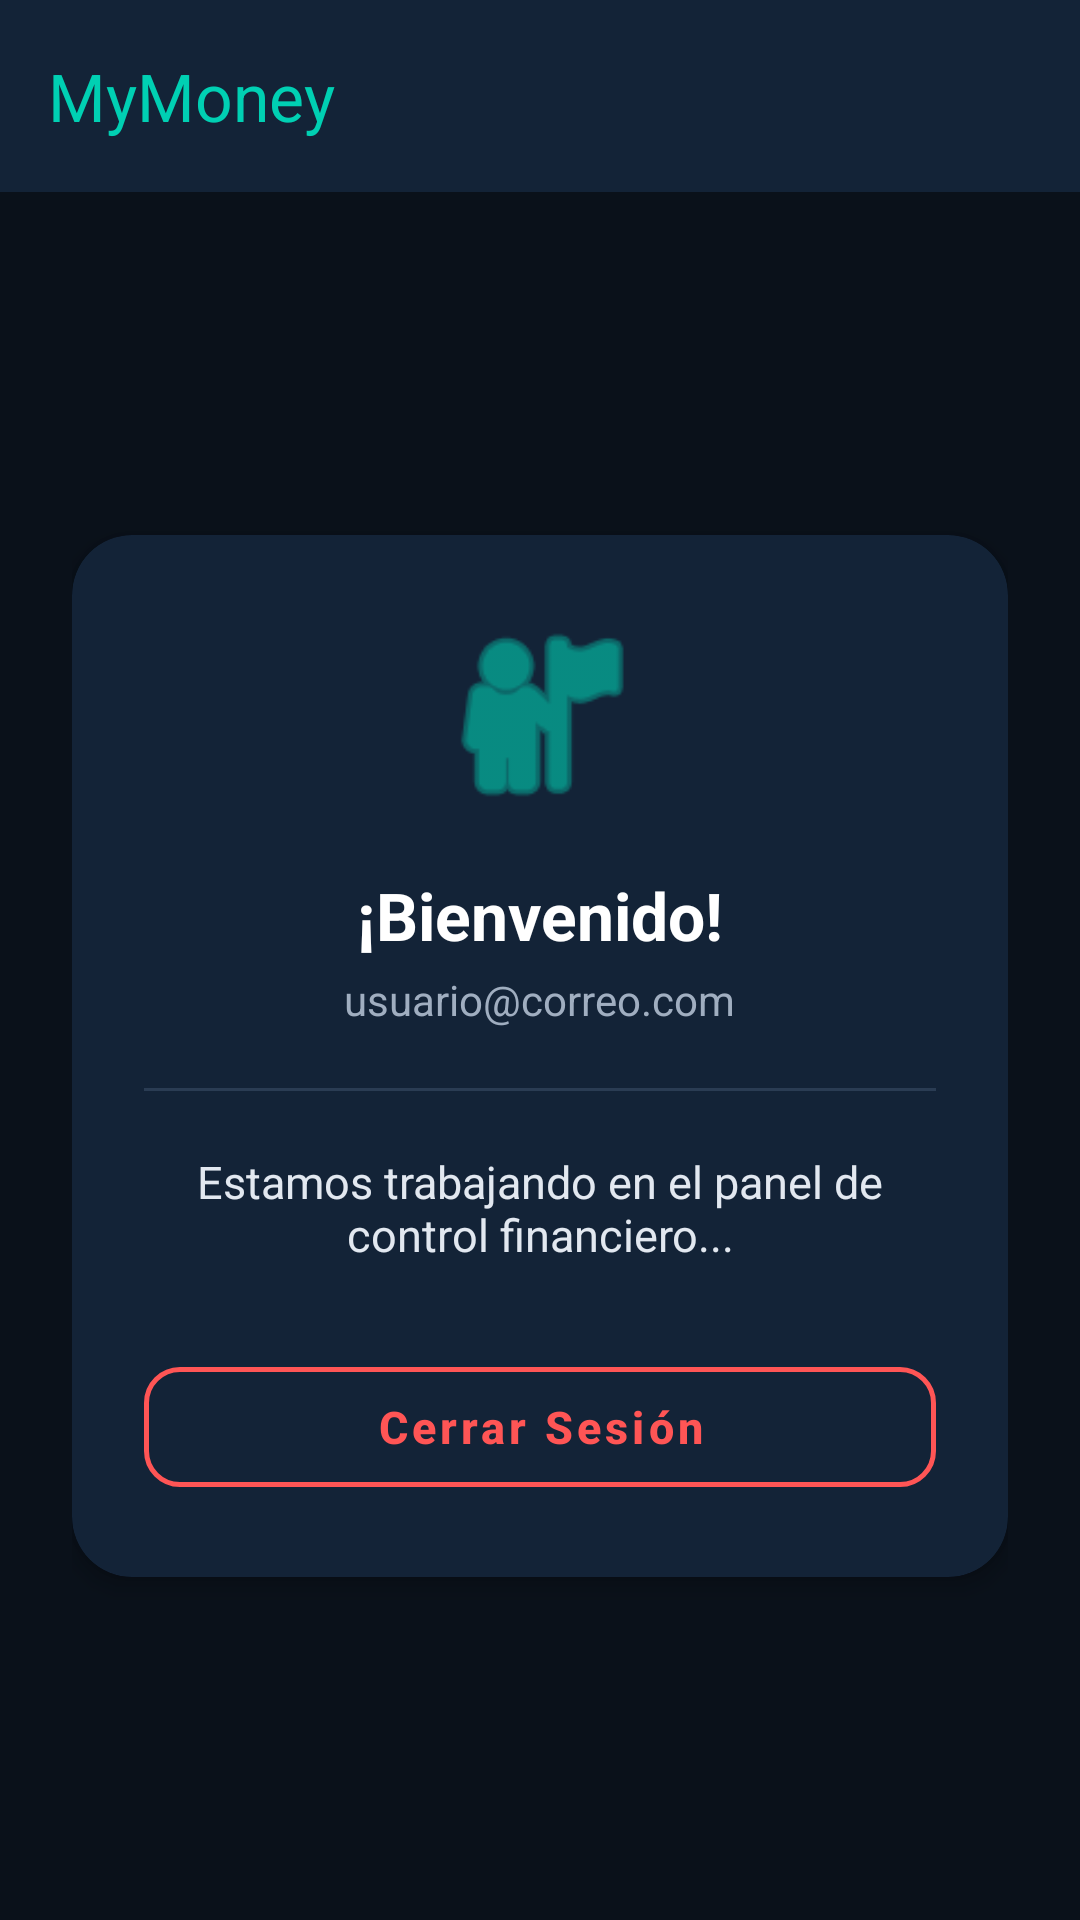

Where icons sit on this 1080px x 1920px app screen, as detection(x1, y1, x2, y2):
Icono de usuario: detection(461, 635, 623, 795)
